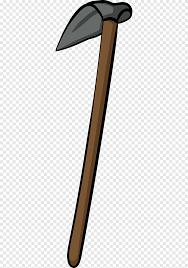HOUE: (49, 0, 170, 268)
